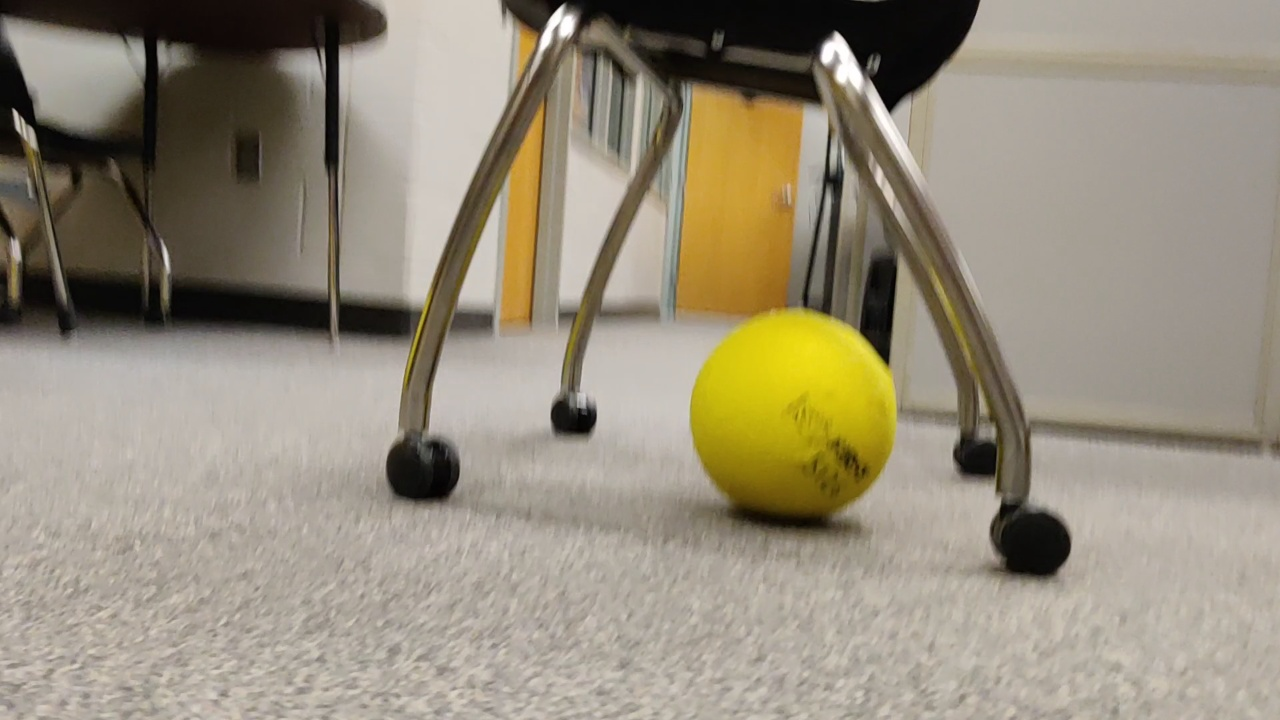Ball: (691, 308, 907, 537)
